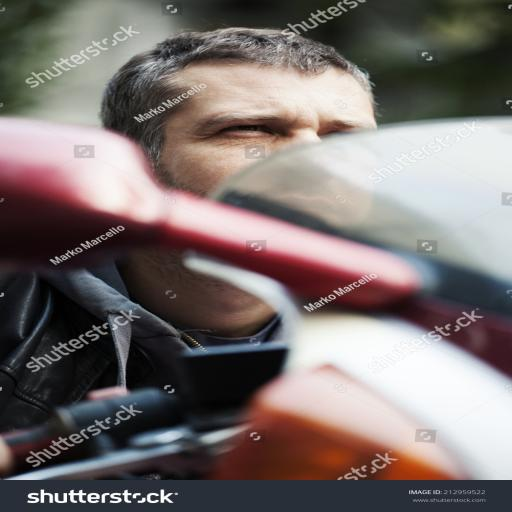no_helm: (63, 6, 457, 324)
